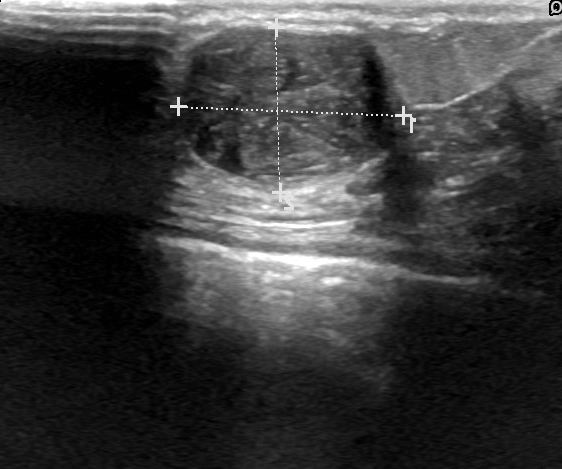Benign: (190, 28, 388, 173)
